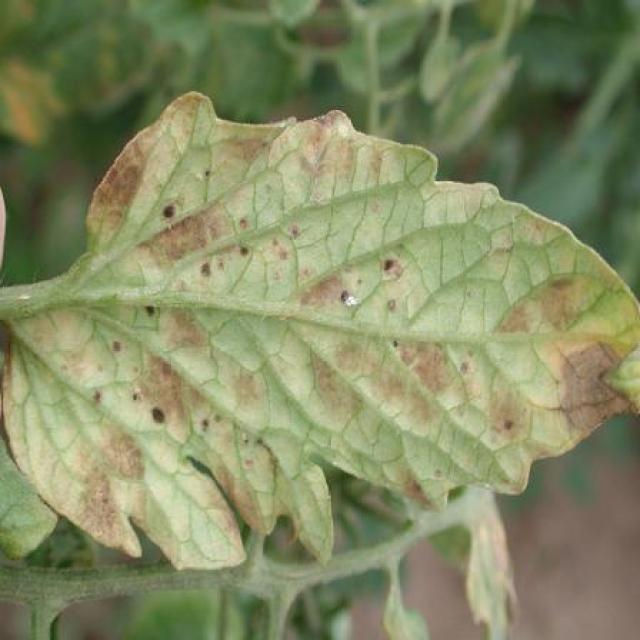Leaf Mold: (4, 90, 640, 570)
